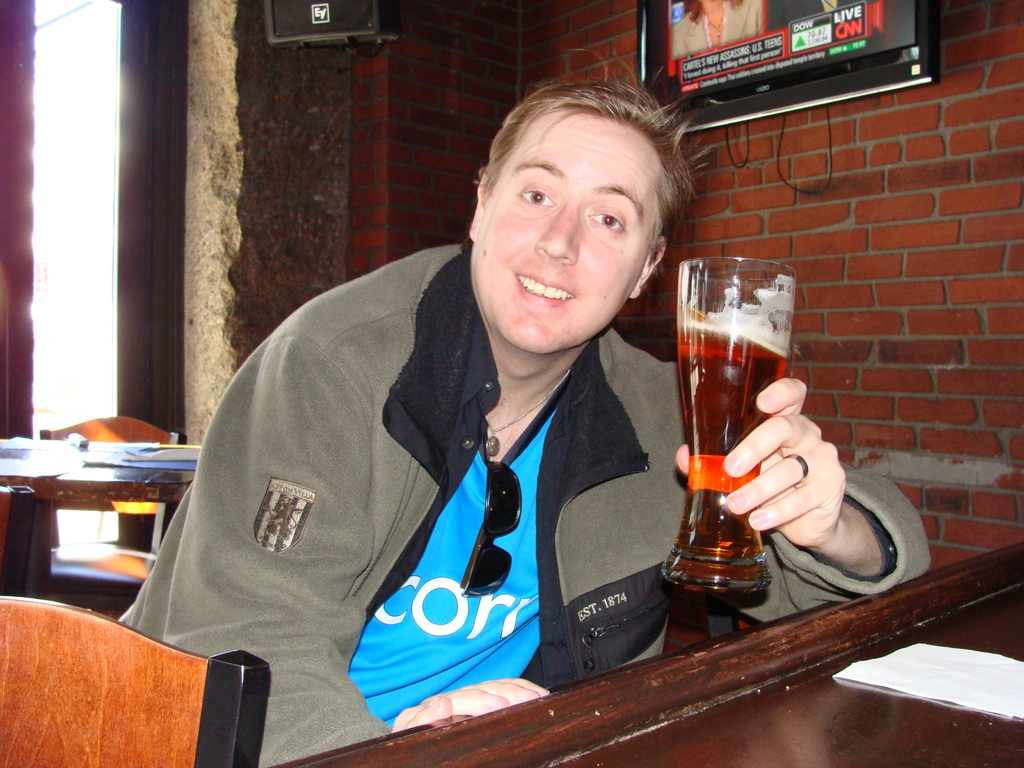Beer: (676, 318, 785, 579)
